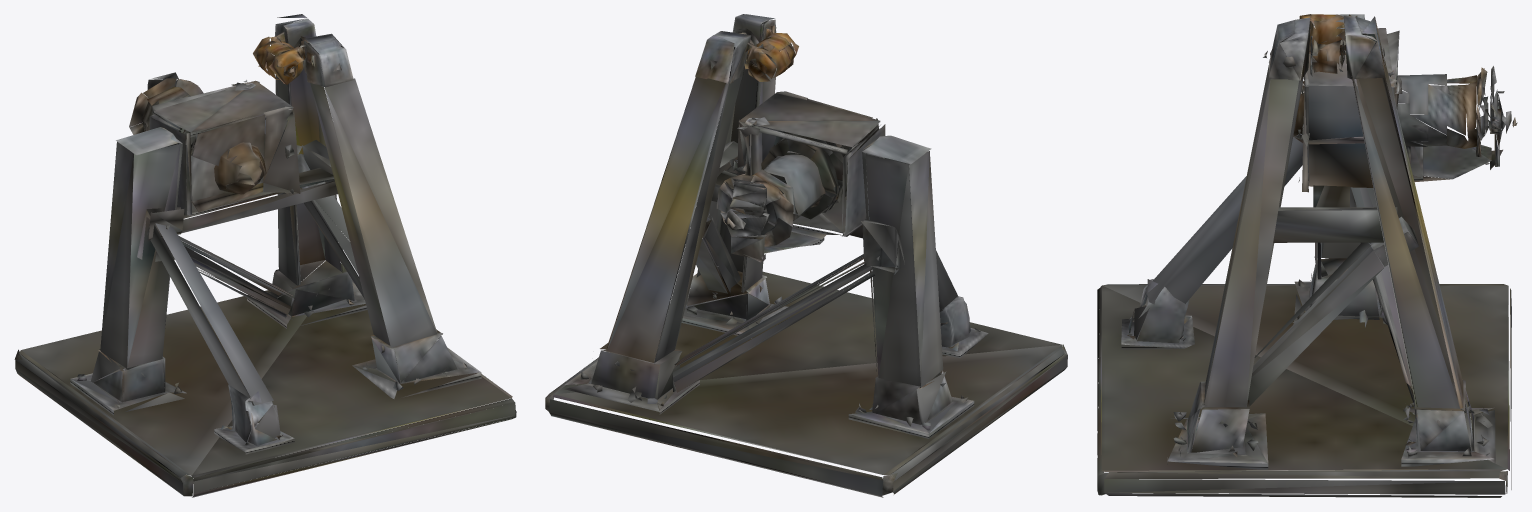
The model's file is zip-anchor-far.glb.
The picture shows the model from 3 angles, left to right: view 1: azimuth 30°, elevation 25°; view 2: azimuth 150°, elevation 25°; view 3: azimuth 270°, elevation 25°; orthographic projection. The views are drawn at different scales.
Visible parts, largest first — view 1: zip-anchor; view 2: zip-anchor; view 3: zip-anchor.
Boxes of the visible parts, <box> form: zip-anchor: <box>14,14,516,497</box>; zip-anchor: <box>545,14,1067,497</box>; zip-anchor: <box>1097,14,1517,497</box>.
Size of the model in its own units: 2.63 by 2.61 by 2.42.
Materials: 1 (1 with a texture image).
